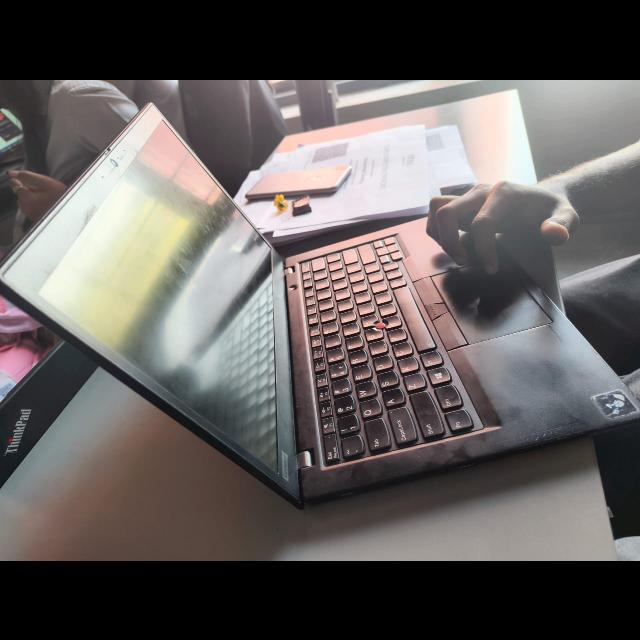laptop: (10, 171, 640, 491)
